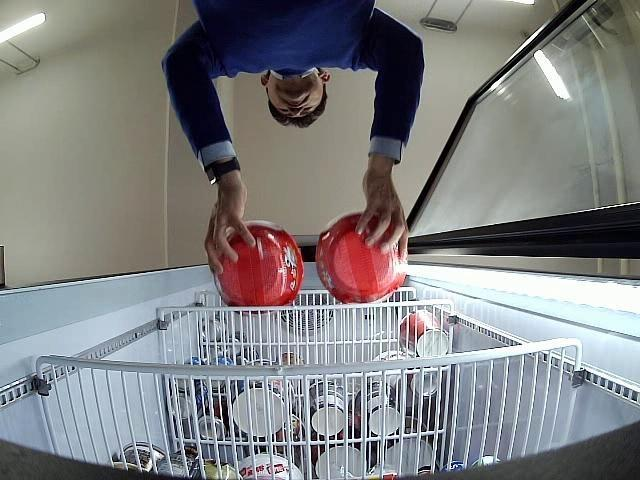10_wangTtukkeong: (214, 221, 304, 314), (316, 212, 406, 304)
